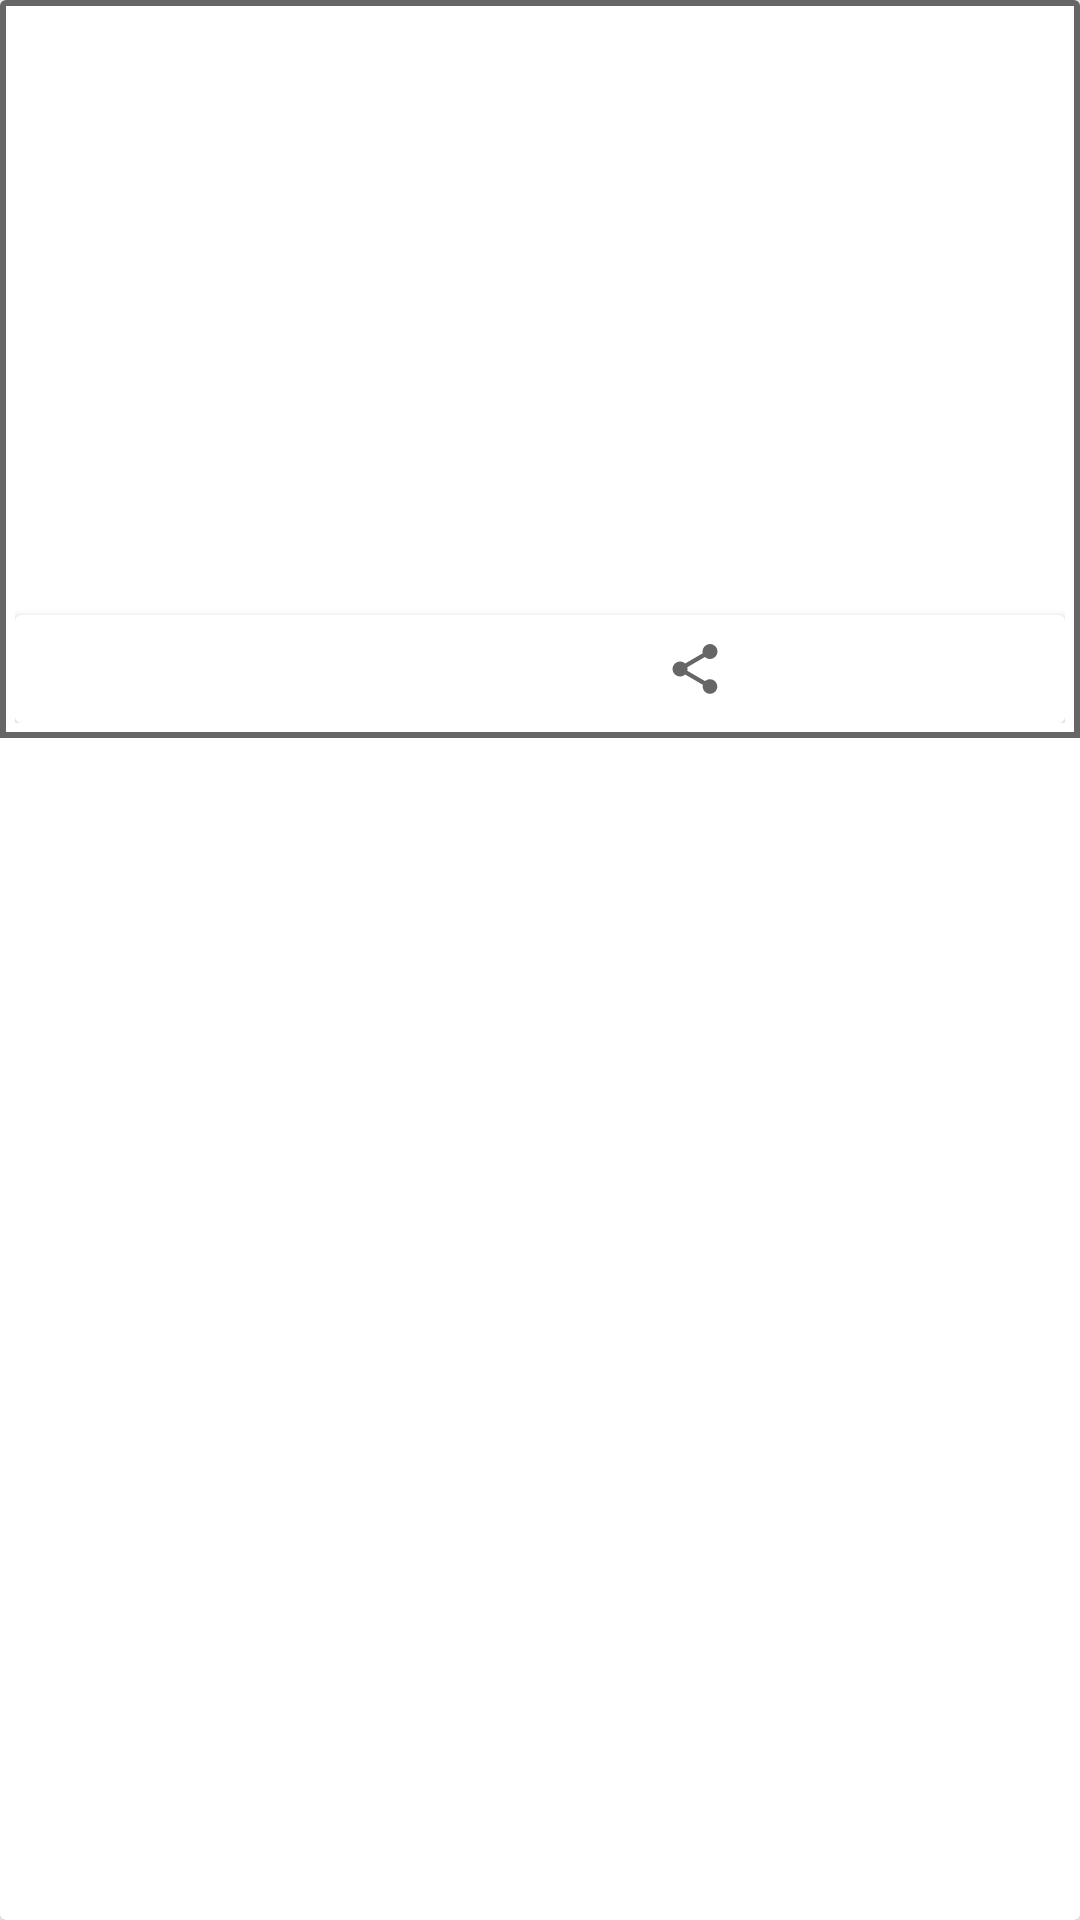

Locate icon controls on the screen. Image size 1080*1920, boxes as rect(x1, y1, x2, y2).
share: rect(672, 644, 718, 694)
